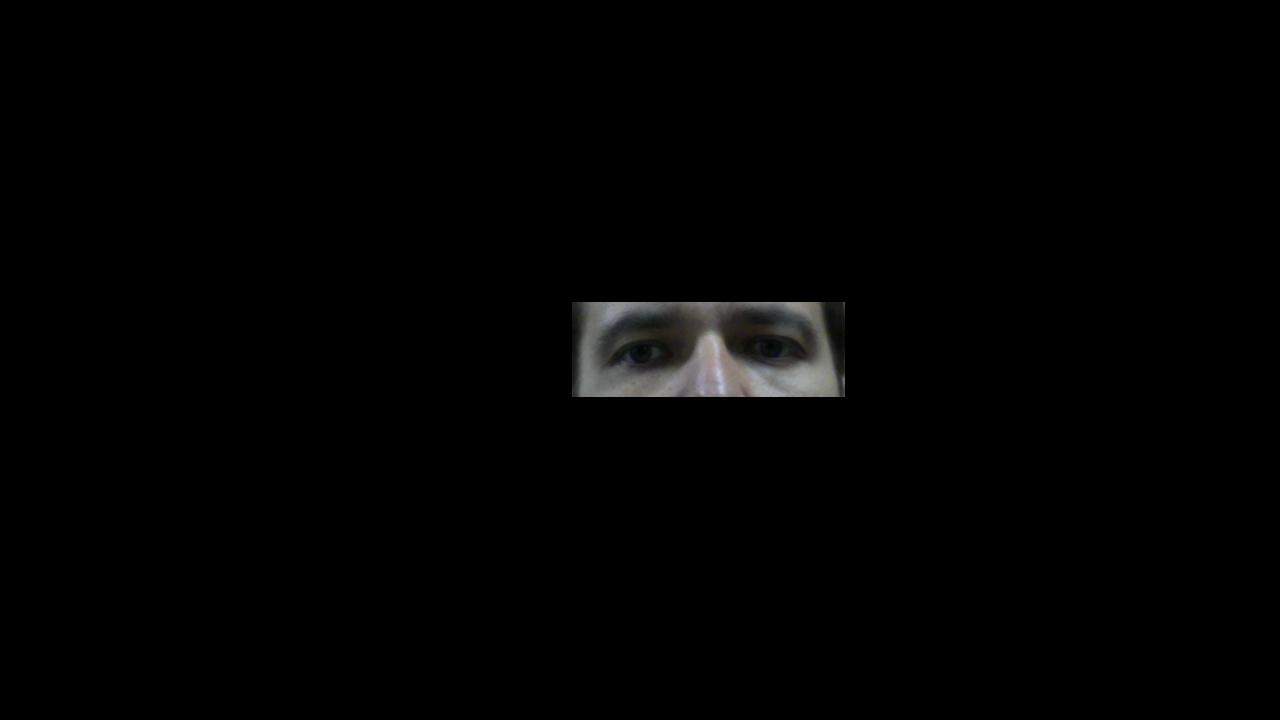eye: (630, 343, 654, 361), (759, 342, 783, 359)
